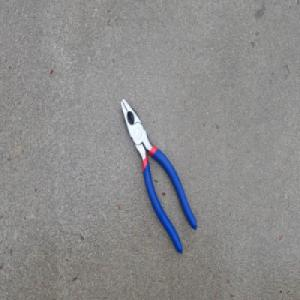Pliers: (119, 98, 197, 255)
